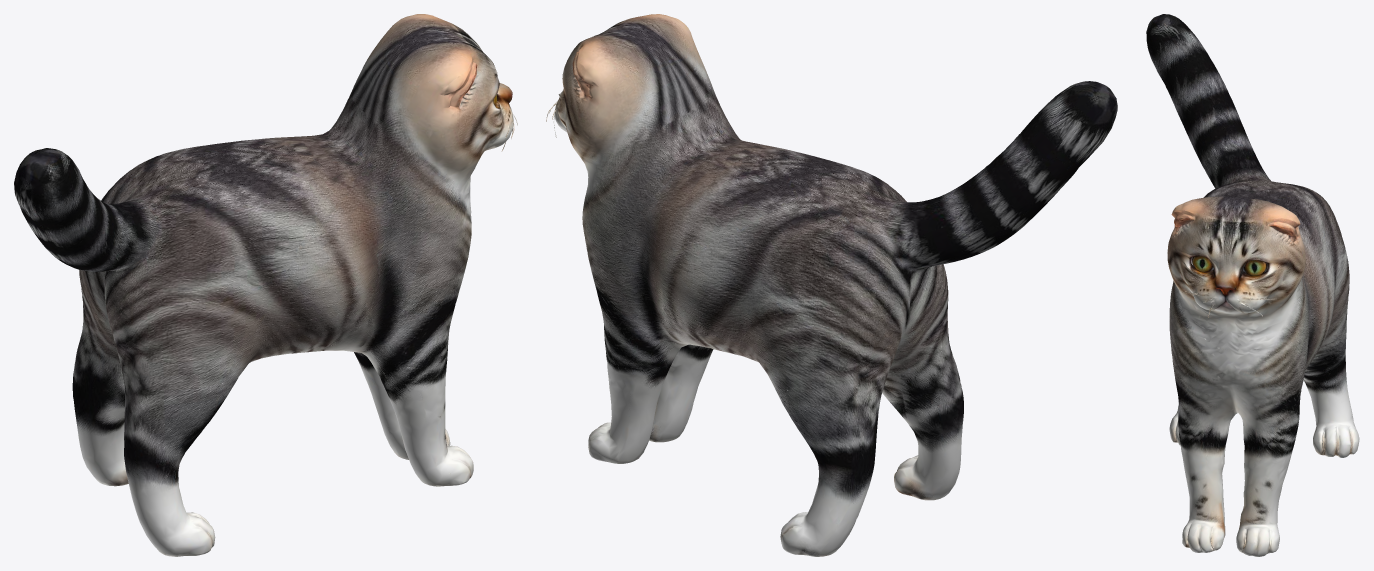
Rendered from MEREDITCAT.glb.
The picture shows the model from 3 angles, left to right: view 1: azimuth 30°, elevation 25°; view 2: azimuth 150°, elevation 25°; view 3: azimuth 270°, elevation 25°; orthographic projection. The views are drawn at different scales.
Visible parts, largest first — view 1: fit; view 2: fit; view 3: fit.
Boxes of the visible parts, x1=… form: fit: x1=14, y1=14, x2=517, y2=556; fit: x1=546, y1=14, x2=1117, y2=556; fit: x1=1146, y1=14, x2=1359, y2=556.
Bounding box in the file's own units: 1.23 × 0.9996 × 0.533.
1 material, 1 textured.
